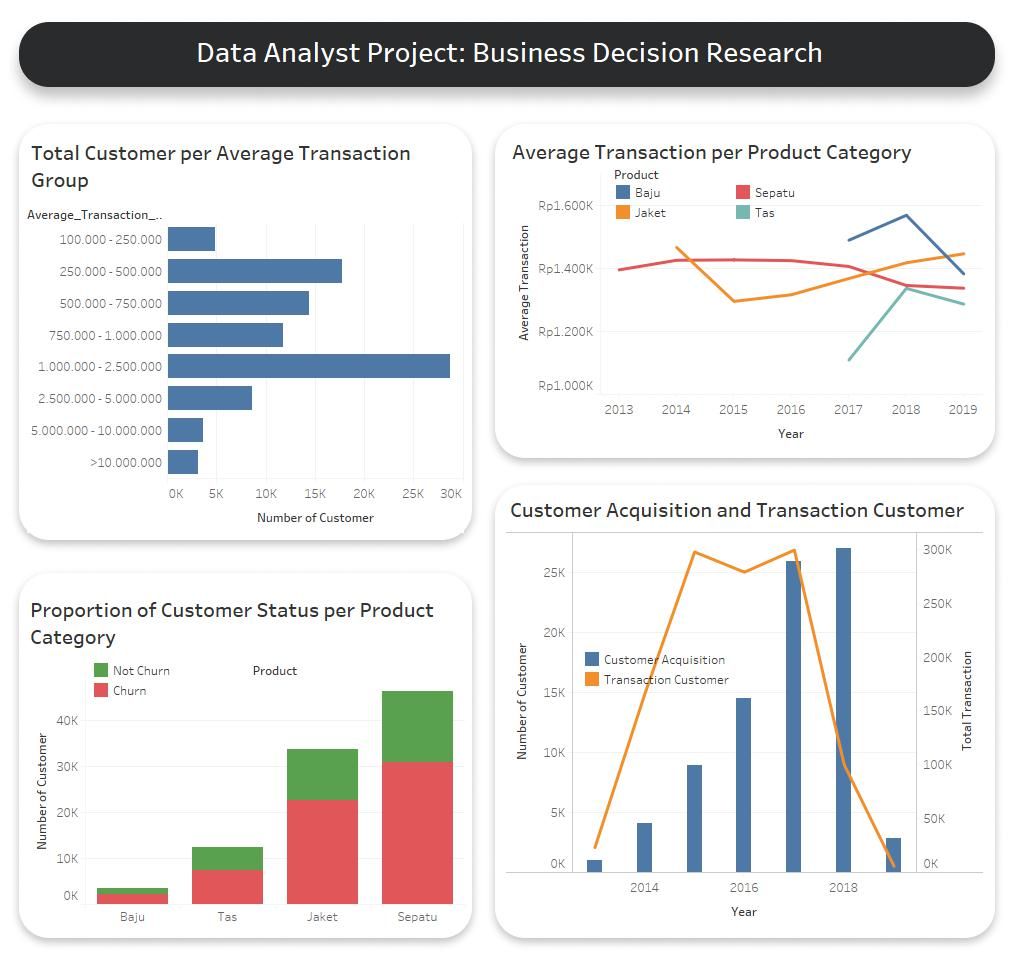

The dashboard page shown, as its layout file describes it:
{"tool":"tableau","page":{"name":"Dashboard 2","canvas":[1016,964],"ordinal":1},"visuals":[{"type":"text","box":[35,18,949,67]},{"type":"worksheet","title":"Average Transaction per Product Category","mark":"Automatic","rows":["Average_Transaction_Amount"],"cols":["First_Transaction"],"box":[508,131,474,318]},{"type":"worksheet","title":"Total Customer per Average Transaction Group","mark":"Bar","rows":["Average_Transaction_Amount_Group"],"cols":["Customer_ID"],"box":[27,132,437,401]},{"type":"legend","title":"Average Transaction per Product Category","param":"[federated.1jg1e501v6j1ft10qia1g0xhbnw3].[none:Product:nk]","box":[613,164,268,61]},{"type":"worksheet","title":"Graph of Customer Acquisition and Transaction Customer","mark":"Automatic","rows":["Customer_ID","Count_Transaction"],"cols":["First_Transaction"],"box":[506,489,477,439]},{"type":"worksheet","title":"Proportion of Customer Status per Product Category","mark":"Automatic","rows":["Customer_ID"],"cols":["Product"],"box":[26,589,439,336]},{"type":"legend","title":"Graph of Customer Acquisition and Transaction Customer","param":"[federated.1jg1e501v6j1ft10qia1g0xhbnw3].[:Measure Names]","box":[582,649,151,40]},{"type":"legend","title":"Proportion of Customer Status per Product Category","param":"[federated.1jg1e501v6j1ft10qia1g0xhbnw3].[none:is_churn:nk]","box":[91,660,140,58]}]}

Visuals, with their boxes in screenshot pixels (x1, y1, x2, y2), scaled from the page's 1016x964 canvas onto the 1016x964 screenshot:
text: detection(35, 18, 984, 85)
"Average Transaction per Product Category" worksheet: detection(508, 131, 982, 449)
"Total Customer per Average Transaction Group" worksheet (Bar marks): detection(27, 132, 464, 533)
"Average Transaction per Product Category" legend: detection(613, 164, 881, 225)
"Graph of Customer Acquisition and Transaction Customer" worksheet: detection(506, 489, 983, 928)
"Proportion of Customer Status per Product Category" worksheet: detection(26, 589, 465, 925)
"Graph of Customer Acquisition and Transaction Customer" legend: detection(582, 649, 733, 689)
"Proportion of Customer Status per Product Category" legend: detection(91, 660, 231, 718)
